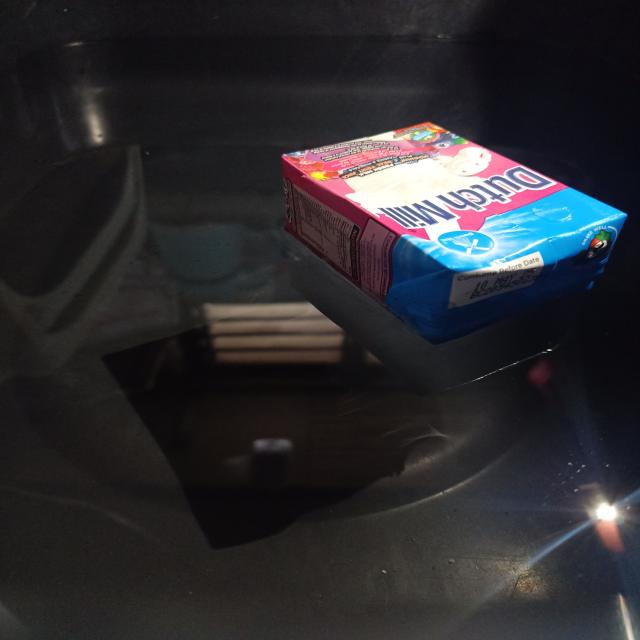Cardboard Box: (282, 121, 627, 344)
